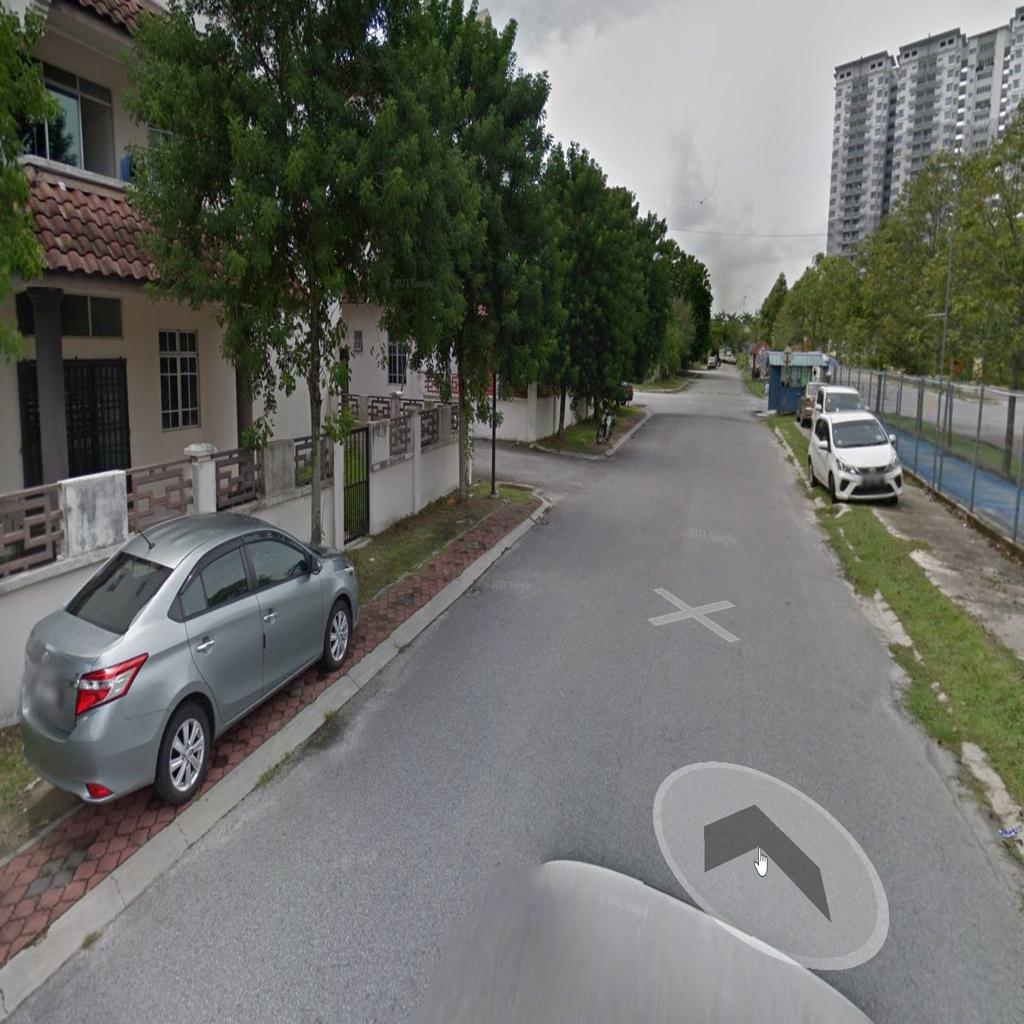Junction: (472, 418, 695, 544)
